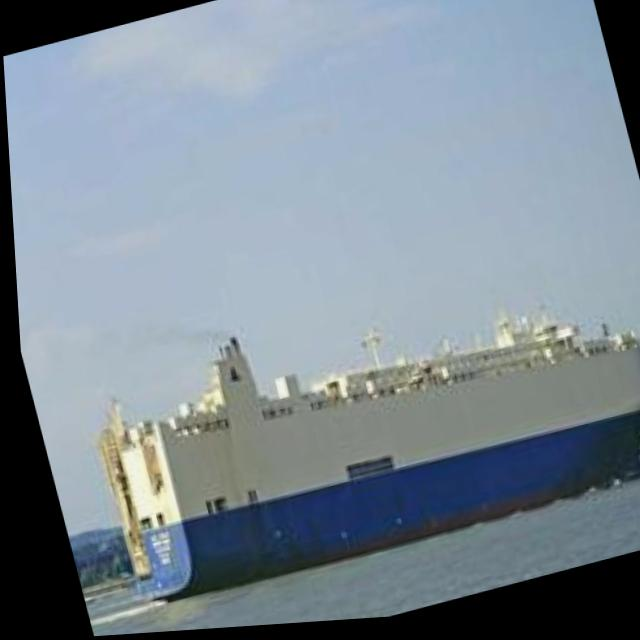ship2: (90, 313, 640, 607)
